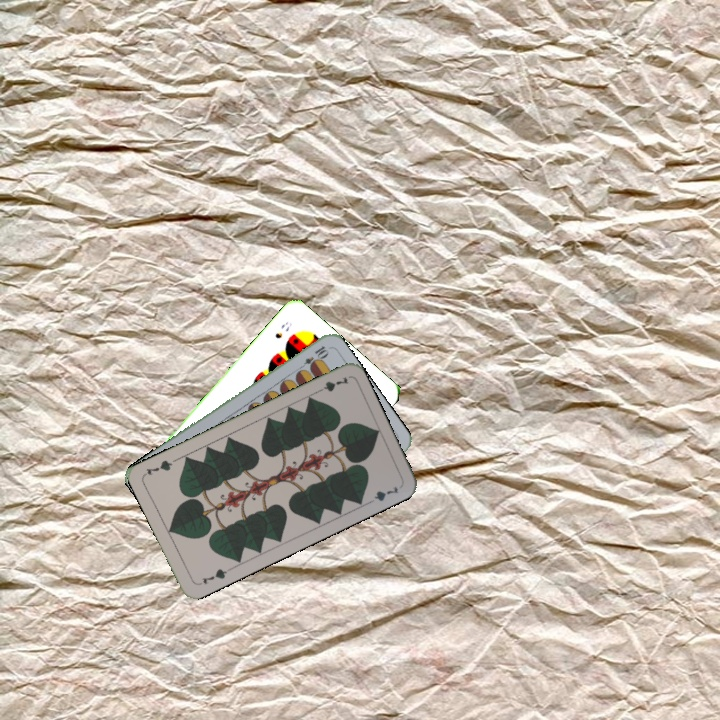E10: (294, 342, 331, 373)
G7: (311, 372, 351, 396), (194, 565, 233, 588)
S8: (271, 318, 294, 341)
